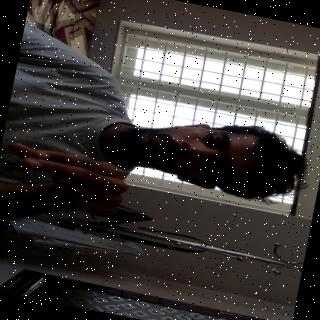No: (0, 134, 149, 248)
